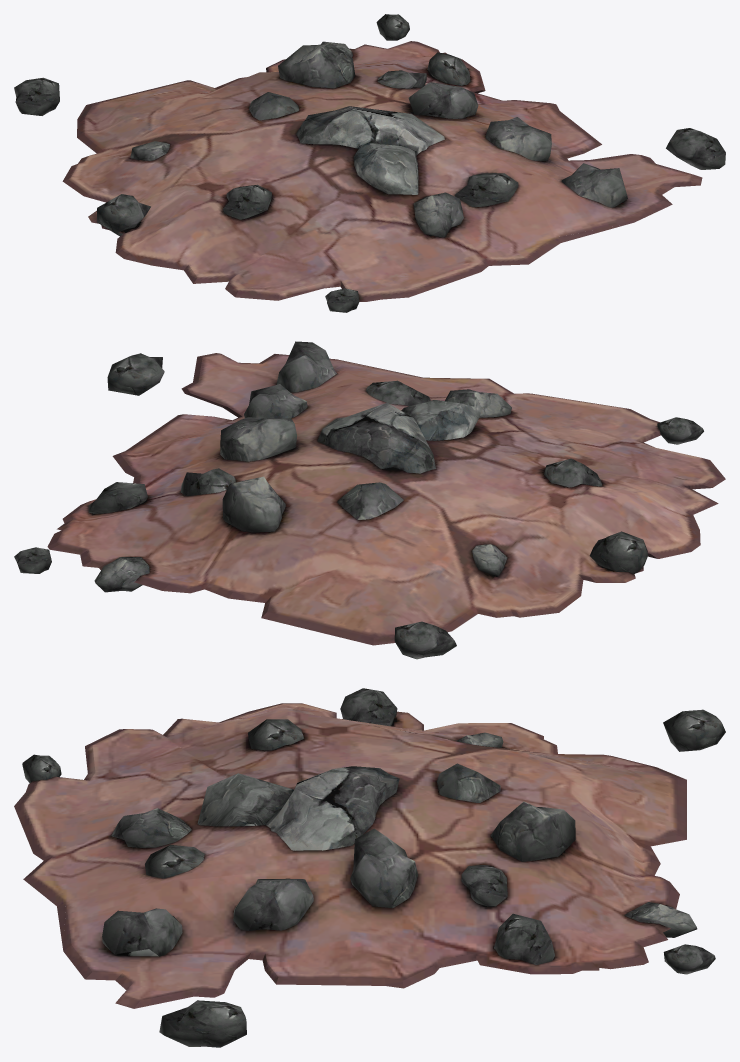
The model's file is all_item_caves_rubble_mound_ald_01.glb.
3 views of the same model, one above another, from view 1: azimuth 30°, elevation 25°; view 2: azimuth 150°, elevation 25°; view 3: azimuth 270°, elevation 25° (orthographic). The views are drawn at different scales.
Parts seen in each view (by area): view 1: all_item_caves_rubble_mound_ald_01; view 2: all_item_caves_rubble_mound_ald_01; view 3: all_item_caves_rubble_mound_ald_01.
Part boxes in pixels (x1=…): all_item_caves_rubble_mound_ald_01: x1=14, y1=14, x2=725, y2=312; all_item_caves_rubble_mound_ald_01: x1=14, y1=341, x2=725, y2=659; all_item_caves_rubble_mound_ald_01: x1=14, y1=688, x2=725, y2=1047.
Bounding box in the file's own units: 0.7984 × 0.126 × 0.722.
2 materials, 2 textured.
